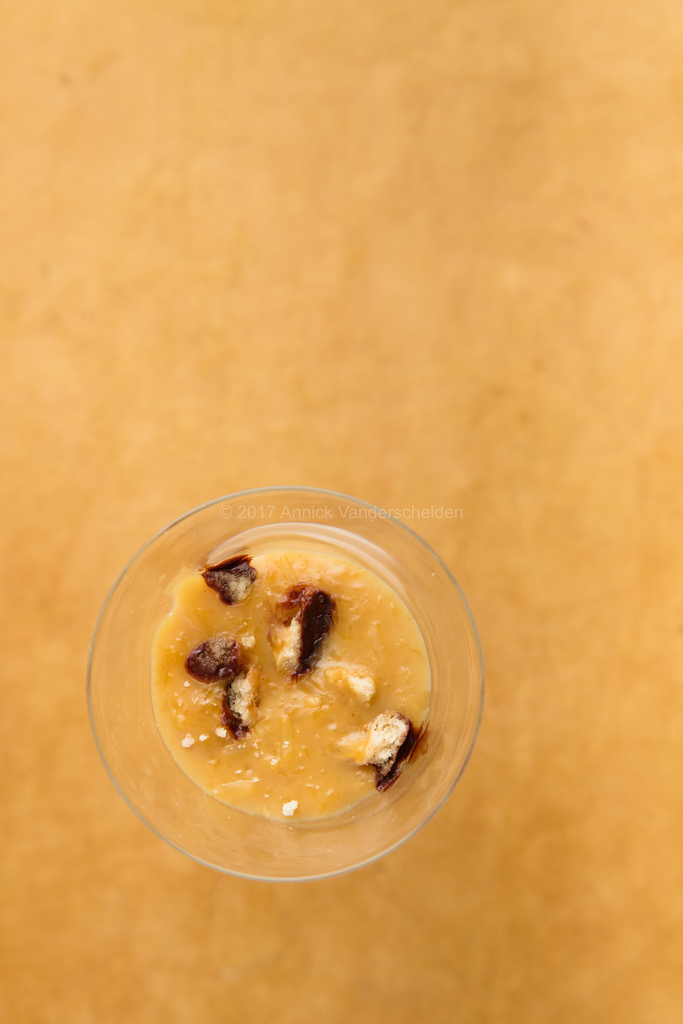boiled potatoes: (260, 721, 342, 818)
